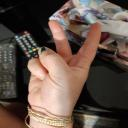PeaceSign: (27, 20, 103, 115)
